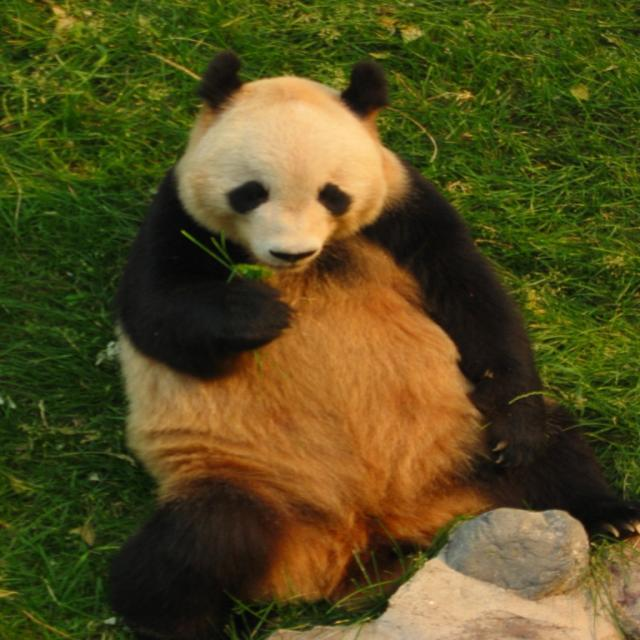panda: (106, 48, 640, 640)
